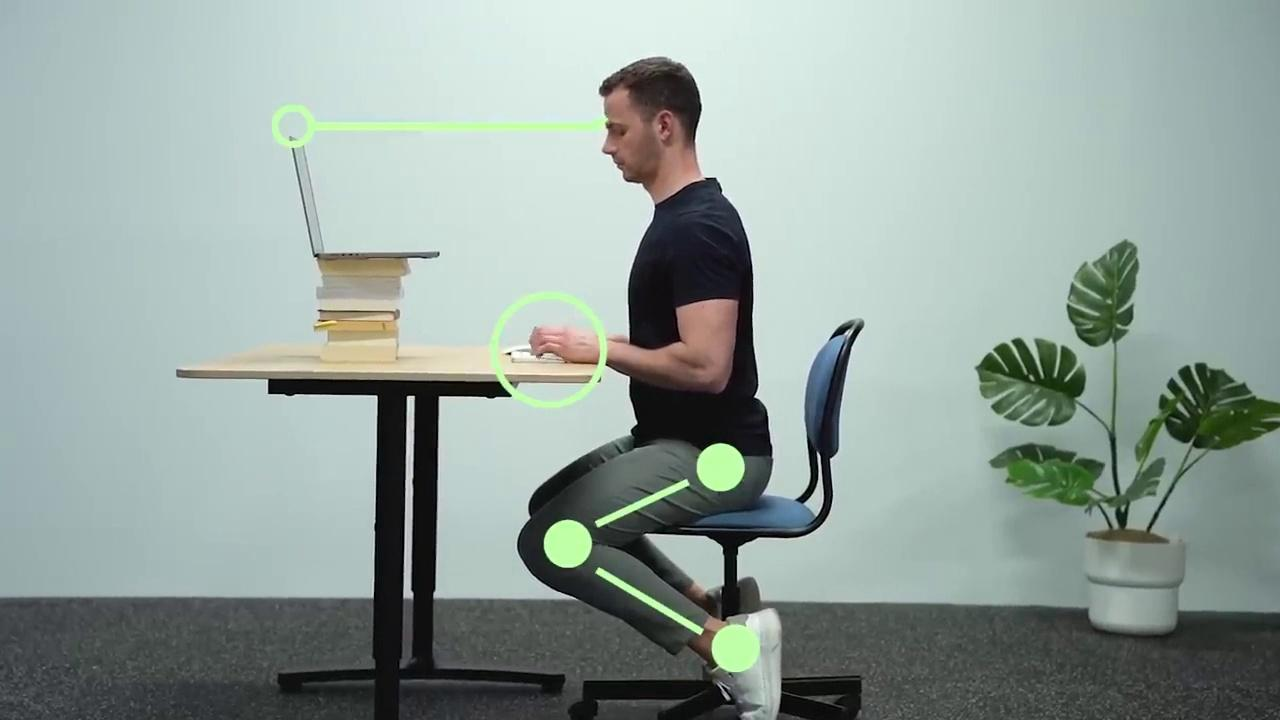GoodPosture: (517, 57, 857, 719)
